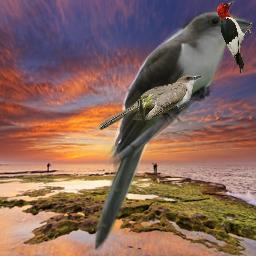Cuckoo: (87, 8, 253, 255), (97, 74, 201, 130)
Woodpecker: (216, 0, 253, 73)
